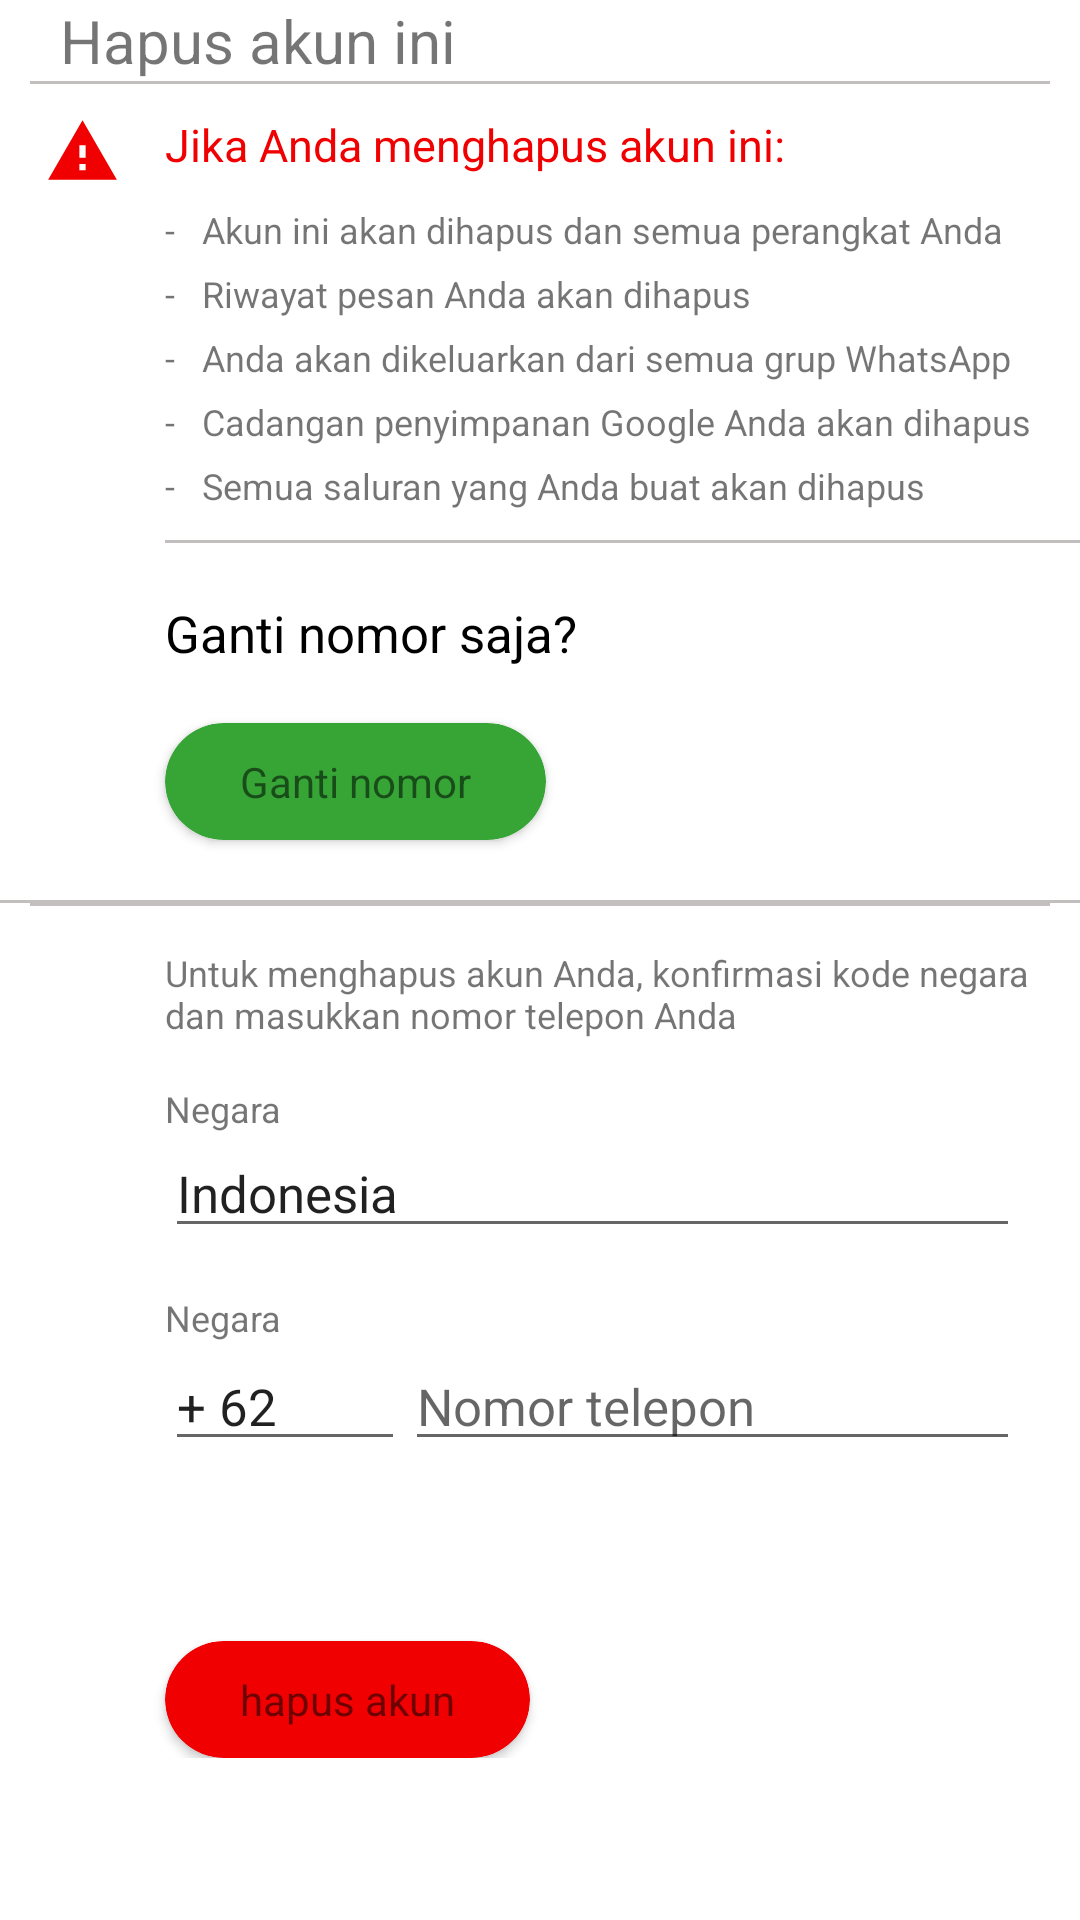

Icon click points for this 1080x1920 phone screenshot, format [x,y]:
warning: [82,150]
